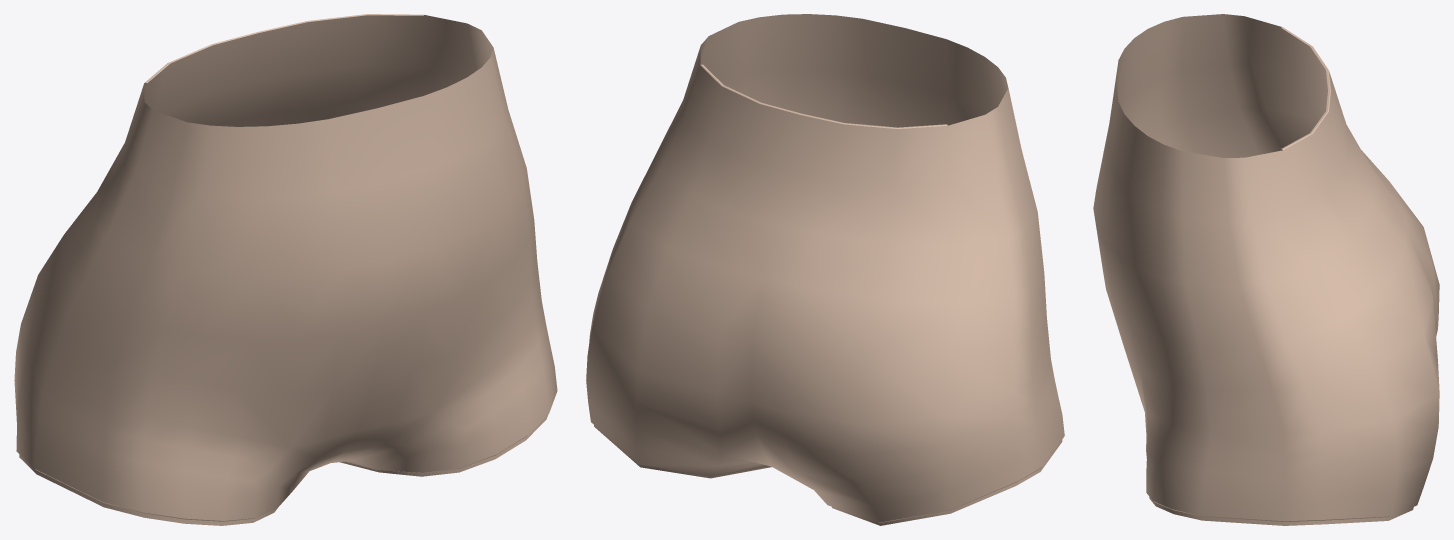
Rendered from MannequinFemaleHips.fbx.
3 renders of one model, left to right at view 1: azimuth 30°, elevation 25°; view 2: azimuth 150°, elevation 25°; view 3: azimuth 270°, elevation 25°, orthographic. The views are drawn at different scales.
Visible parts, largest first — view 1: MannequinHipsFemale; view 2: MannequinHipsFemale; view 3: MannequinHipsFemale.
Boxes of the visible parts, box(x1,y1,x2,y2) form: MannequinHipsFemale: box(14, 14, 557, 525); MannequinHipsFemale: box(586, 14, 1064, 525); MannequinHipsFemale: box(1093, 14, 1439, 525).
Size of the model in its own units: 0.356 by 0.2872 by 0.2386.
